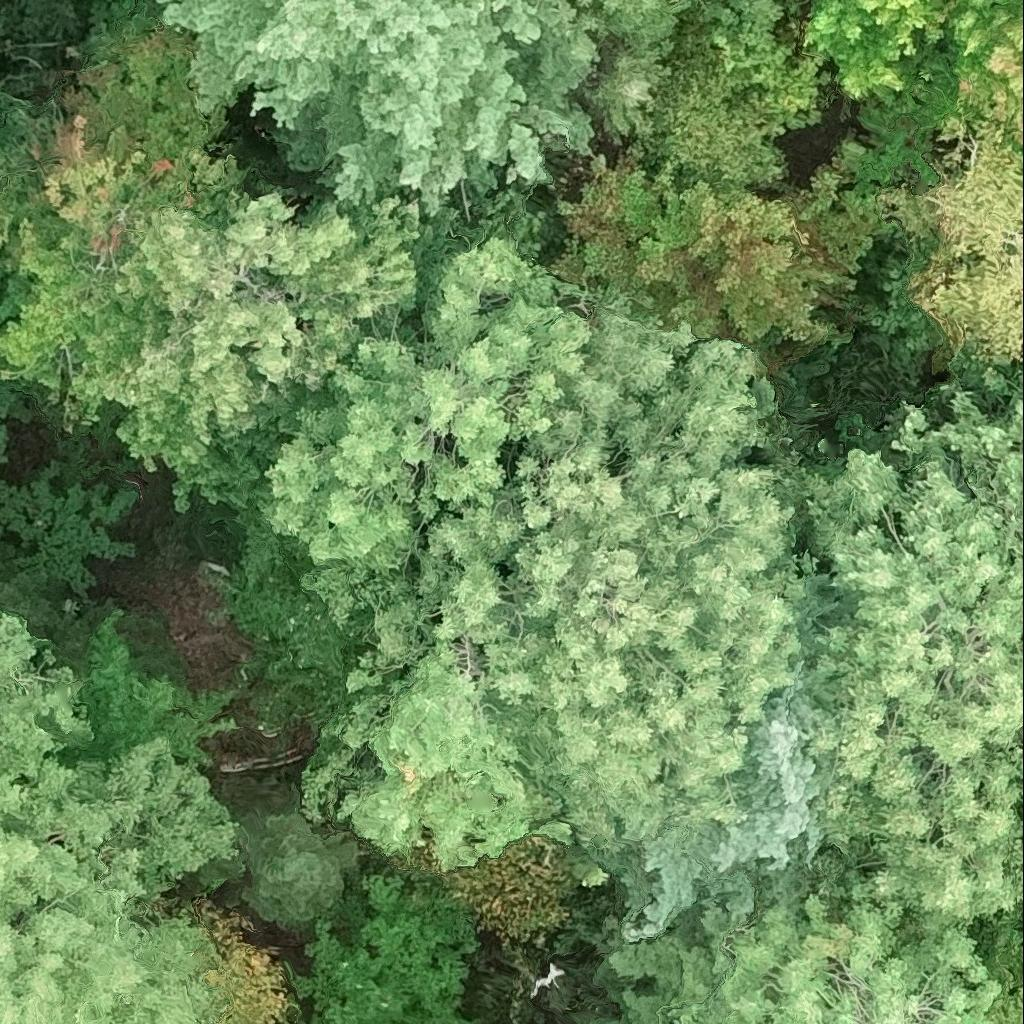crown: (249, 243, 804, 876), (0, 8, 434, 510), (790, 368, 1023, 928), (157, 0, 603, 210), (0, 673, 226, 1023), (617, 654, 824, 946), (602, 878, 1004, 1023), (551, 161, 868, 344), (620, 0, 789, 206), (905, 129, 1023, 386), (863, 0, 1023, 182), (708, 0, 834, 132), (808, 0, 950, 104), (240, 812, 358, 928), (575, 34, 673, 148), (572, 0, 680, 53), (0, 620, 49, 706), (0, 167, 25, 256), (979, 974, 1023, 1023)
